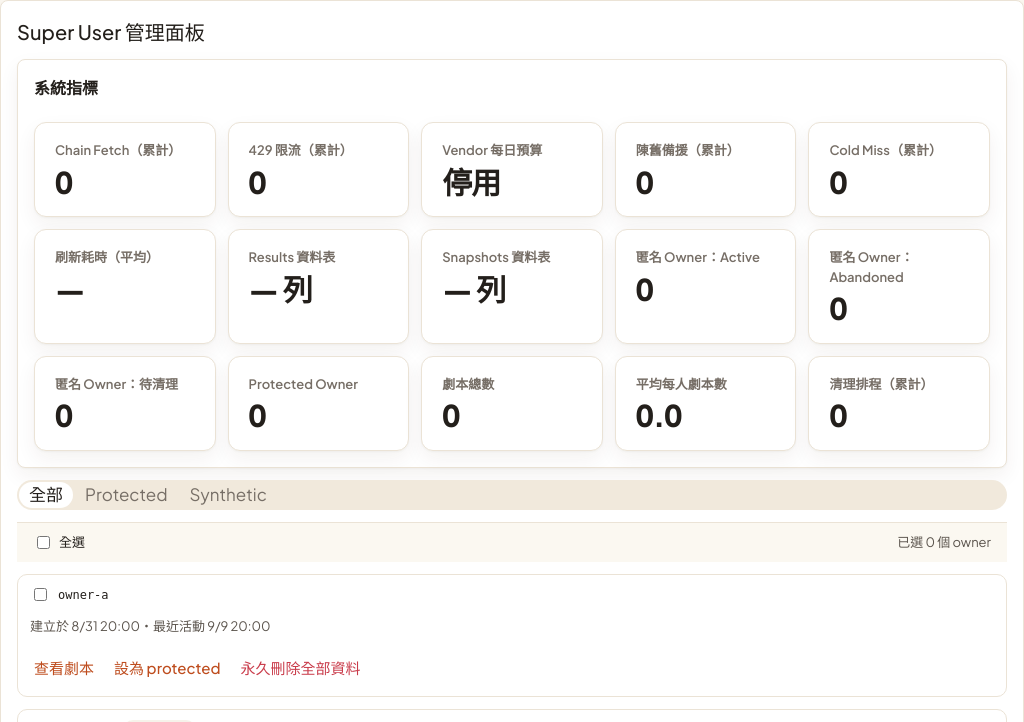
OG-11（#322）：owners 表狀態篩選（純前端，不打新請求） › 點 Protected chip 只留下 protected 的 owner，不打任何新請求
Expected: the text "owner-a" is shown, [58, 586, 109, 604]
Click the button "Protected".
click(126, 494)  # box [75, 482, 178, 508]
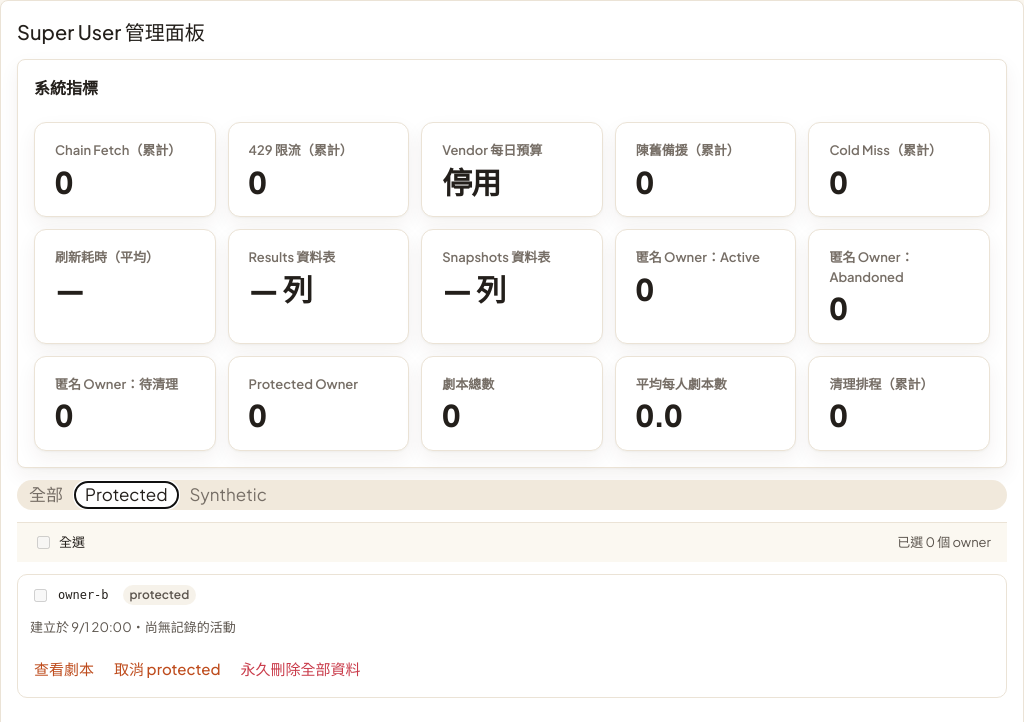
Expected: the text "owner-b" is shown, [58, 586, 109, 604]
Now the text "owner-a" is gone
